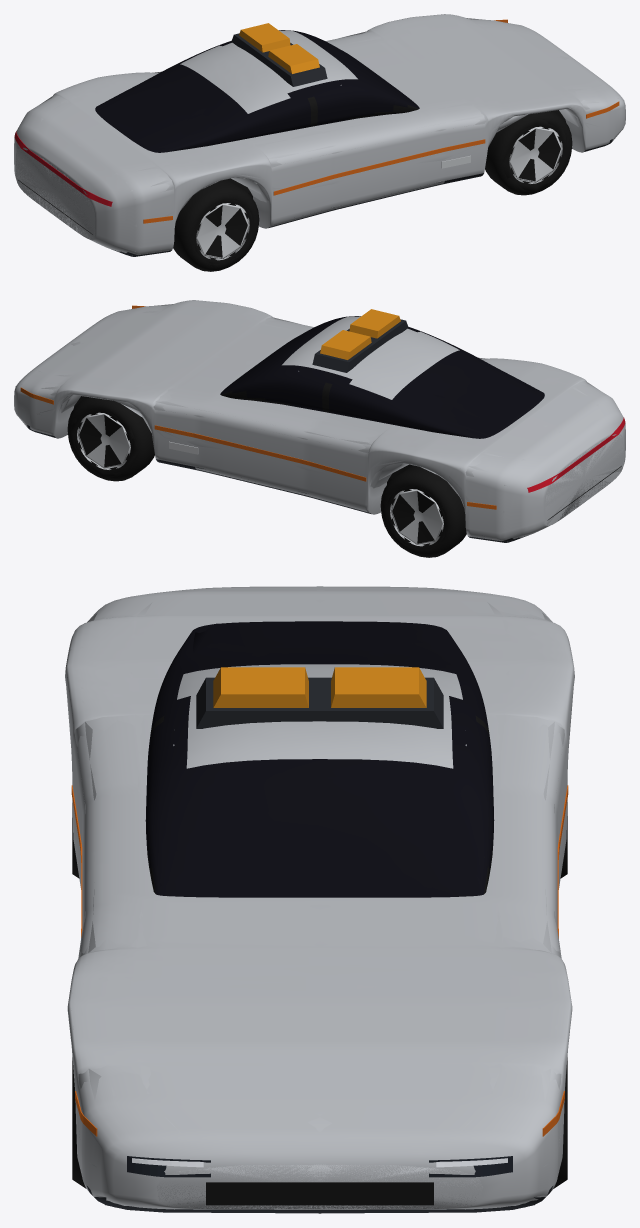
The model's file is safety.glb.
3 renders of one model, top to bottom at view 1: azimuth 30°, elevation 25°; view 2: azimuth 150°, elevation 25°; view 3: azimuth 270°, elevation 25°, orthographic. The views are drawn at different scales.
Visible parts, largest first — view 1: safety_body_L0, safety_glass_L0, safety_body_L1, wheel_FR_L2, wheel_RR_L0, wheel_RR_L2, safety_glass_L2, safety_body_L2, wheel_FR_L0, safety_bar_L0, wheel_RR_L1, lamp_R_L0 (+3 smaller); view 2: safety_body_L0, safety_glass_L0, safety_body_L1, wheel_FL_L2, safety_body_L2, wheel_RL_L2, wheel_RL_L0, safety_glass_L2, wheel_FL_L0, wheel_RL_L1, safety_bar_L0, lamp_L_L0 (+3 smaller); view 3: safety_body_L0, safety_glass_L0, safety_body_L1, safety_body_L2, safety_bar_L0, safety_glass_L1, safety_glass_L2, lamp_L_L0, lamp_R_L0.
Part boxes in pixels (x1,y1,x2,y2): safety_body_L0: (14,14,625,256); safety_glass_L0: (95,30,419,152); safety_body_L1: (16,16,620,255); wheel_FR_L2: (501,119,566,192); wheel_RR_L0: (173,179,259,271); wheel_RR_L2: (189,195,257,267); safety_glass_L2: (96,80,382,150); safety_body_L2: (17,18,599,238); wheel_FR_L0: (485,111,572,195); safety_bar_L0: (231,33,327,86); wheel_RR_L1: (173,179,258,271); lamp_R_L0: (268,44,319,73); safety_body_L0: (14,300,625,542); safety_glass_L0: (220,316,544,438); safety_body_L1: (19,302,624,541); wheel_FL_L2: (69,405,137,477); safety_body_L2: (39,304,623,523); wheel_RL_L2: (382,482,450,554); wheel_RL_L0: (380,465,466,557); safety_glass_L2: (257,365,543,436); wheel_FL_L0: (67,397,154,481); wheel_RL_L1: (382,465,466,557); safety_bar_L0: (312,319,408,372); lamp_L_L0: (320,330,371,359); safety_body_L0: (65,586,574,1213); safety_glass_L0: (145,621,494,897); safety_body_L1: (66,590,573,1213); safety_body_L2: (66,602,573,1208); safety_bar_L0: (196,677,443,728); safety_glass_L1: (149,626,490,897); safety_glass_L2: (190,621,455,896); lamp_L_L0: (331,667,426,707); lamp_R_L0: (213,667,308,707).
Bounding box in the file's own units: 4.92 × 1.38 × 2.06.
